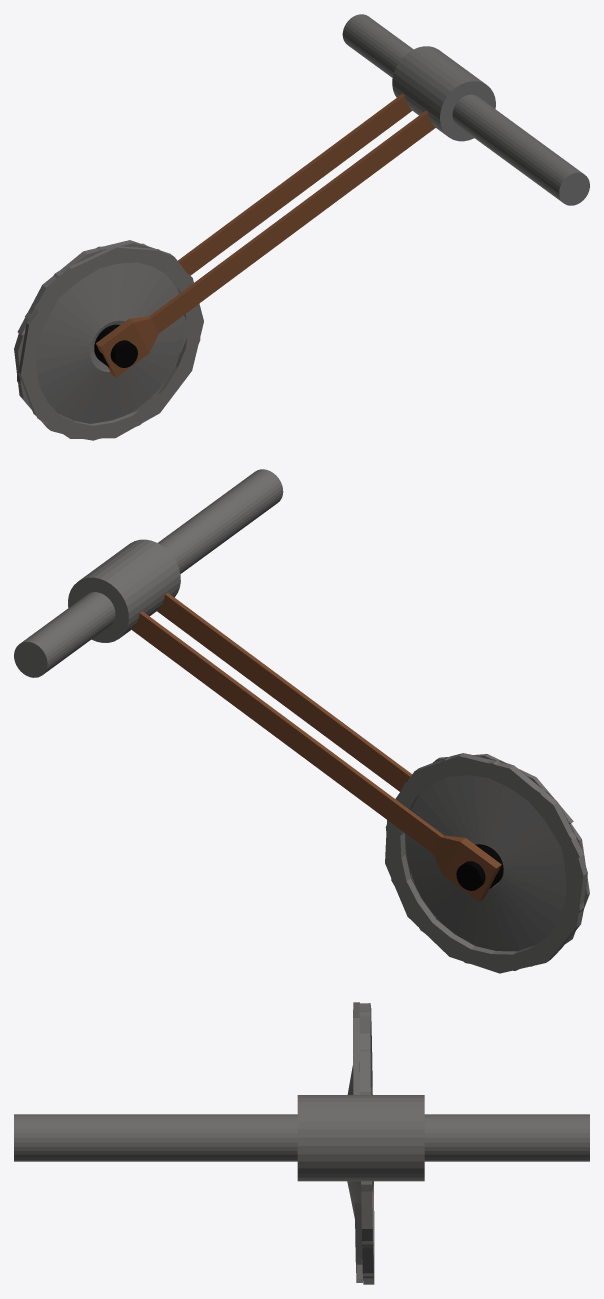
3 views of the same model, one above another, from view 1: azimuth 30°, elevation 25°; view 2: azimuth 150°, elevation 25°; view 3: azimuth 270°, elevation 25° (orthographic). The views are drawn at different scales.
Visible parts, largest first — view 1: Circle, Cube, Cylinder.001, Cylinder.002; view 2: Circle, Cube, Cylinder.001, Cylinder.002; view 3: Cylinder.001, Circle.
Part boxes in pixels (x1,y1,x2,y2): Circle: (14, 240, 203, 440); Cube: (96, 93, 435, 377); Cylinder.001: (342, 14, 589, 205); Cylinder.002: (110, 340, 137, 367); Circle: (385, 753, 589, 973); Cube: (131, 592, 501, 901); Cylinder.001: (14, 469, 283, 677); Cylinder.002: (456, 861, 485, 890); Cylinder.001: (14, 1095, 589, 1181); Circle: (347, 1002, 374, 1284).
Bounding box in the file's own units: 5.92 × 3.64 × 4.89.
